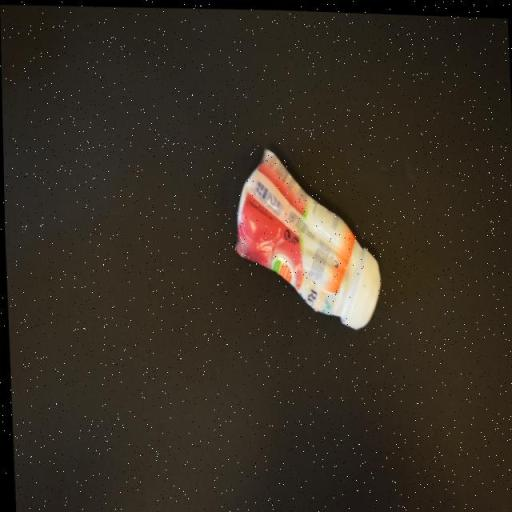plastic: (230, 146, 380, 330)
